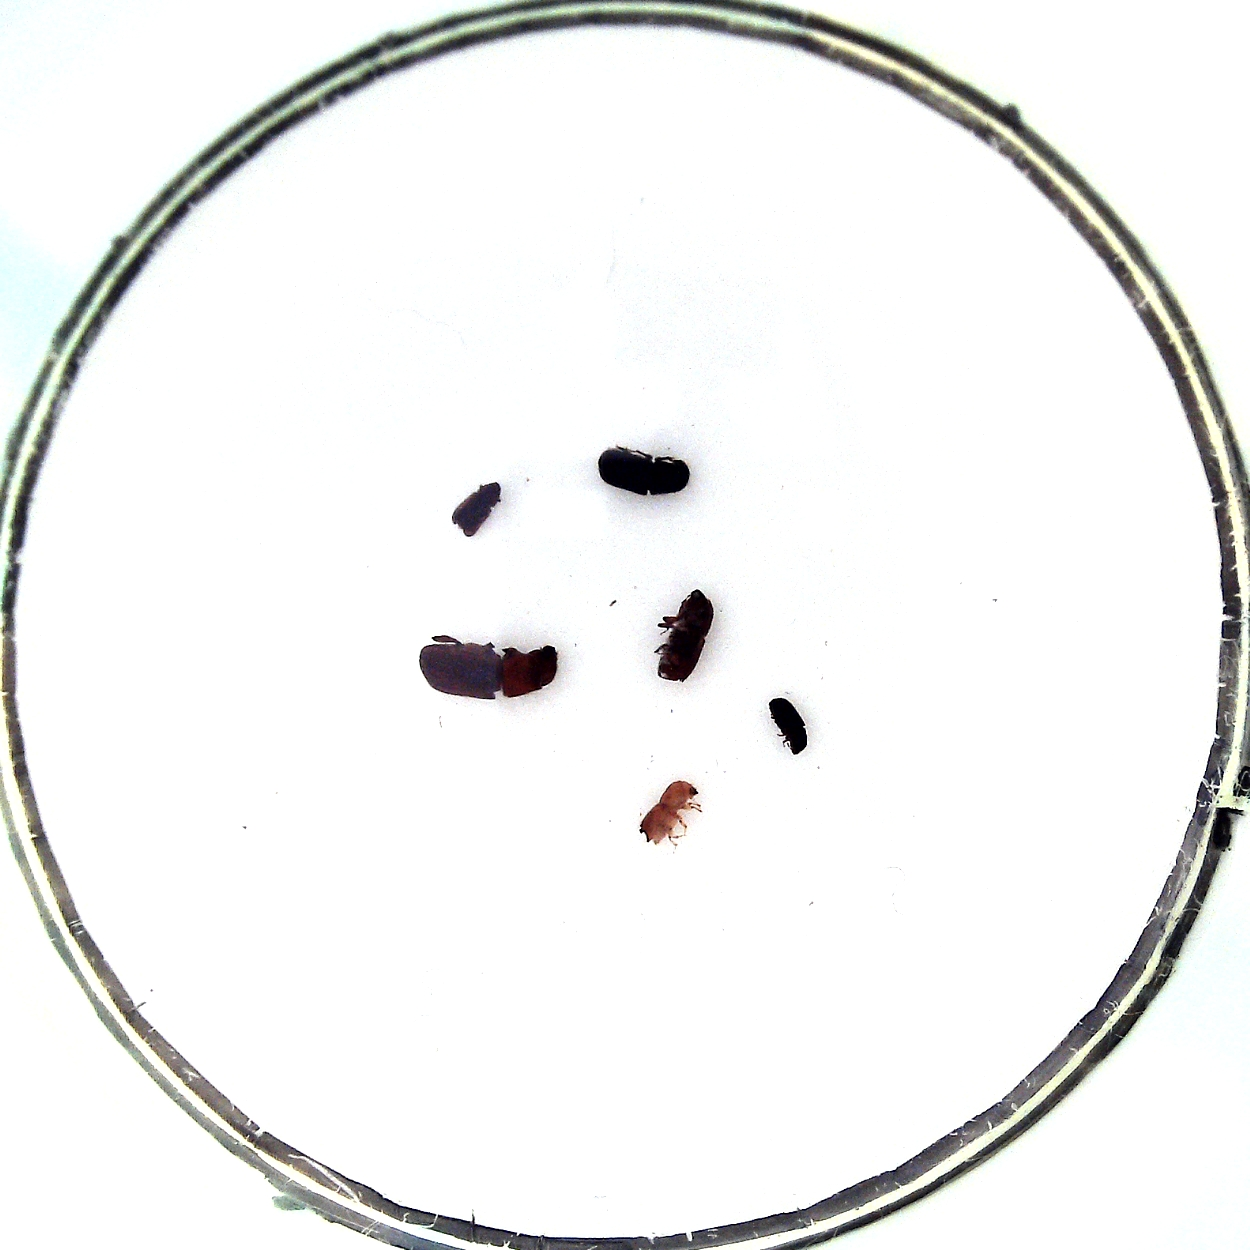Leconte: (420, 643, 559, 701)
acuminatus: (767, 697, 807, 755)
armandi: (598, 445, 690, 496)
coleoptera: (639, 780, 699, 842), (452, 482, 501, 537)
linnaeus: (656, 590, 714, 682)
